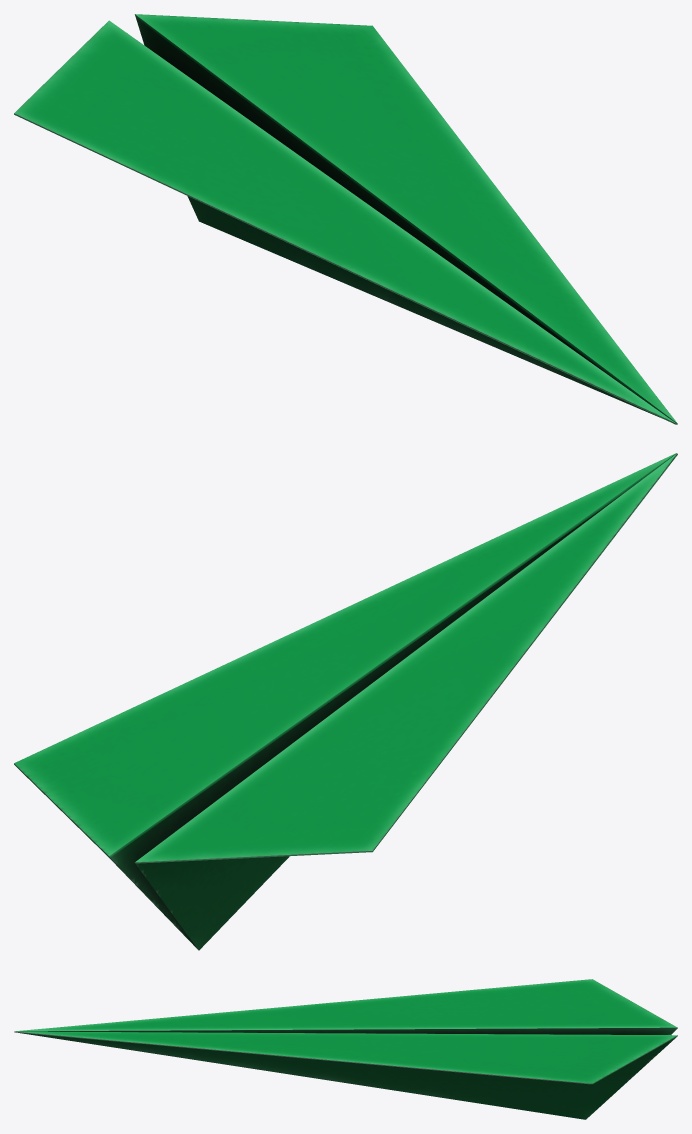
Rendered from Air_Plane_03.fbx.
3 renders of one model, top to bottom at view 1: azimuth 30°, elevation 25°; view 2: azimuth 150°, elevation 25°; view 3: azimuth 270°, elevation 25°, orthographic. The views are drawn at different scales.
Visible parts, largest first — view 1: Air_Plane_03; view 2: Air_Plane_03; view 3: Air_Plane_03.
Part boxes in pixels (x1=…): Air_Plane_03: x1=14, y1=14, x2=677, y2=424; Air_Plane_03: x1=14, y1=453, x2=677, y2=950; Air_Plane_03: x1=14, y1=979, x2=677, y2=1119.
Size of the model in its own units: 0.3293 by 0.1297 by 0.8826.
